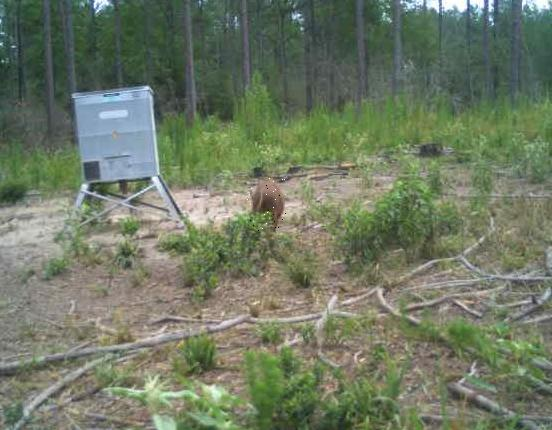Hog: (248, 178, 288, 232)
